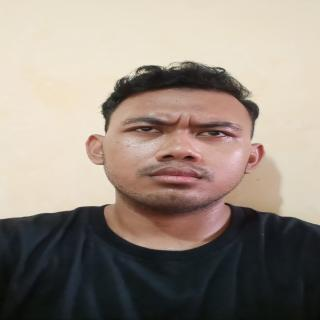Marah: (93, 86, 270, 220)
